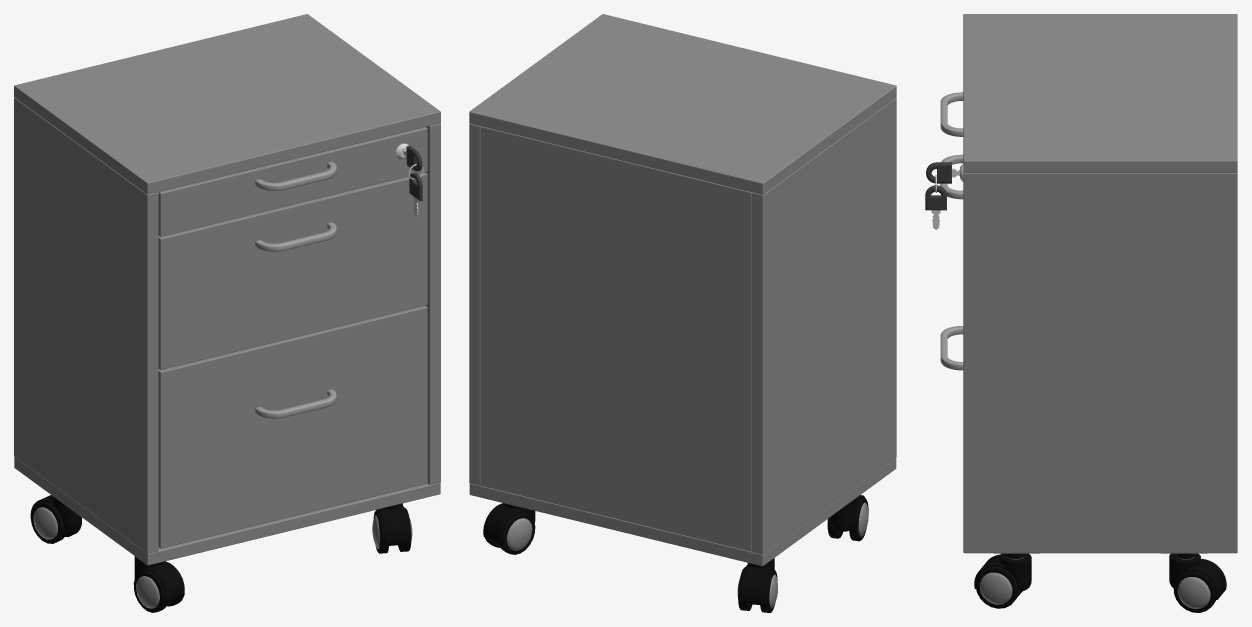
Rendered from iron_cabinet_low.gltf.
The picture shows the model from 3 angles, left to right: view 1: azimuth 30°, elevation 25°; view 2: azimuth 150°, elevation 25°; view 3: azimuth 270°, elevation 25°; orthographic projection. The views are drawn at different scales.
Visible parts, largest first — view 1: Office_Storage_Filing-Cabinet_02_1_8; view 2: Office_Storage_Filing-Cabinet_02_1_8; view 3: Office_Storage_Filing-Cabinet_02_1_8.
Part boxes in pixels (box(x1,y1,x2,y2)): Office_Storage_Filing-Cabinet_02_1_8: box(14, 14, 440, 612); Office_Storage_Filing-Cabinet_02_1_8: box(469, 14, 896, 612); Office_Storage_Filing-Cabinet_02_1_8: box(925, 14, 1237, 612).
Size of the model in its own units: 0.4353 by 0.6306 by 0.3906.
Materials: 5 (2 with a texture image).
